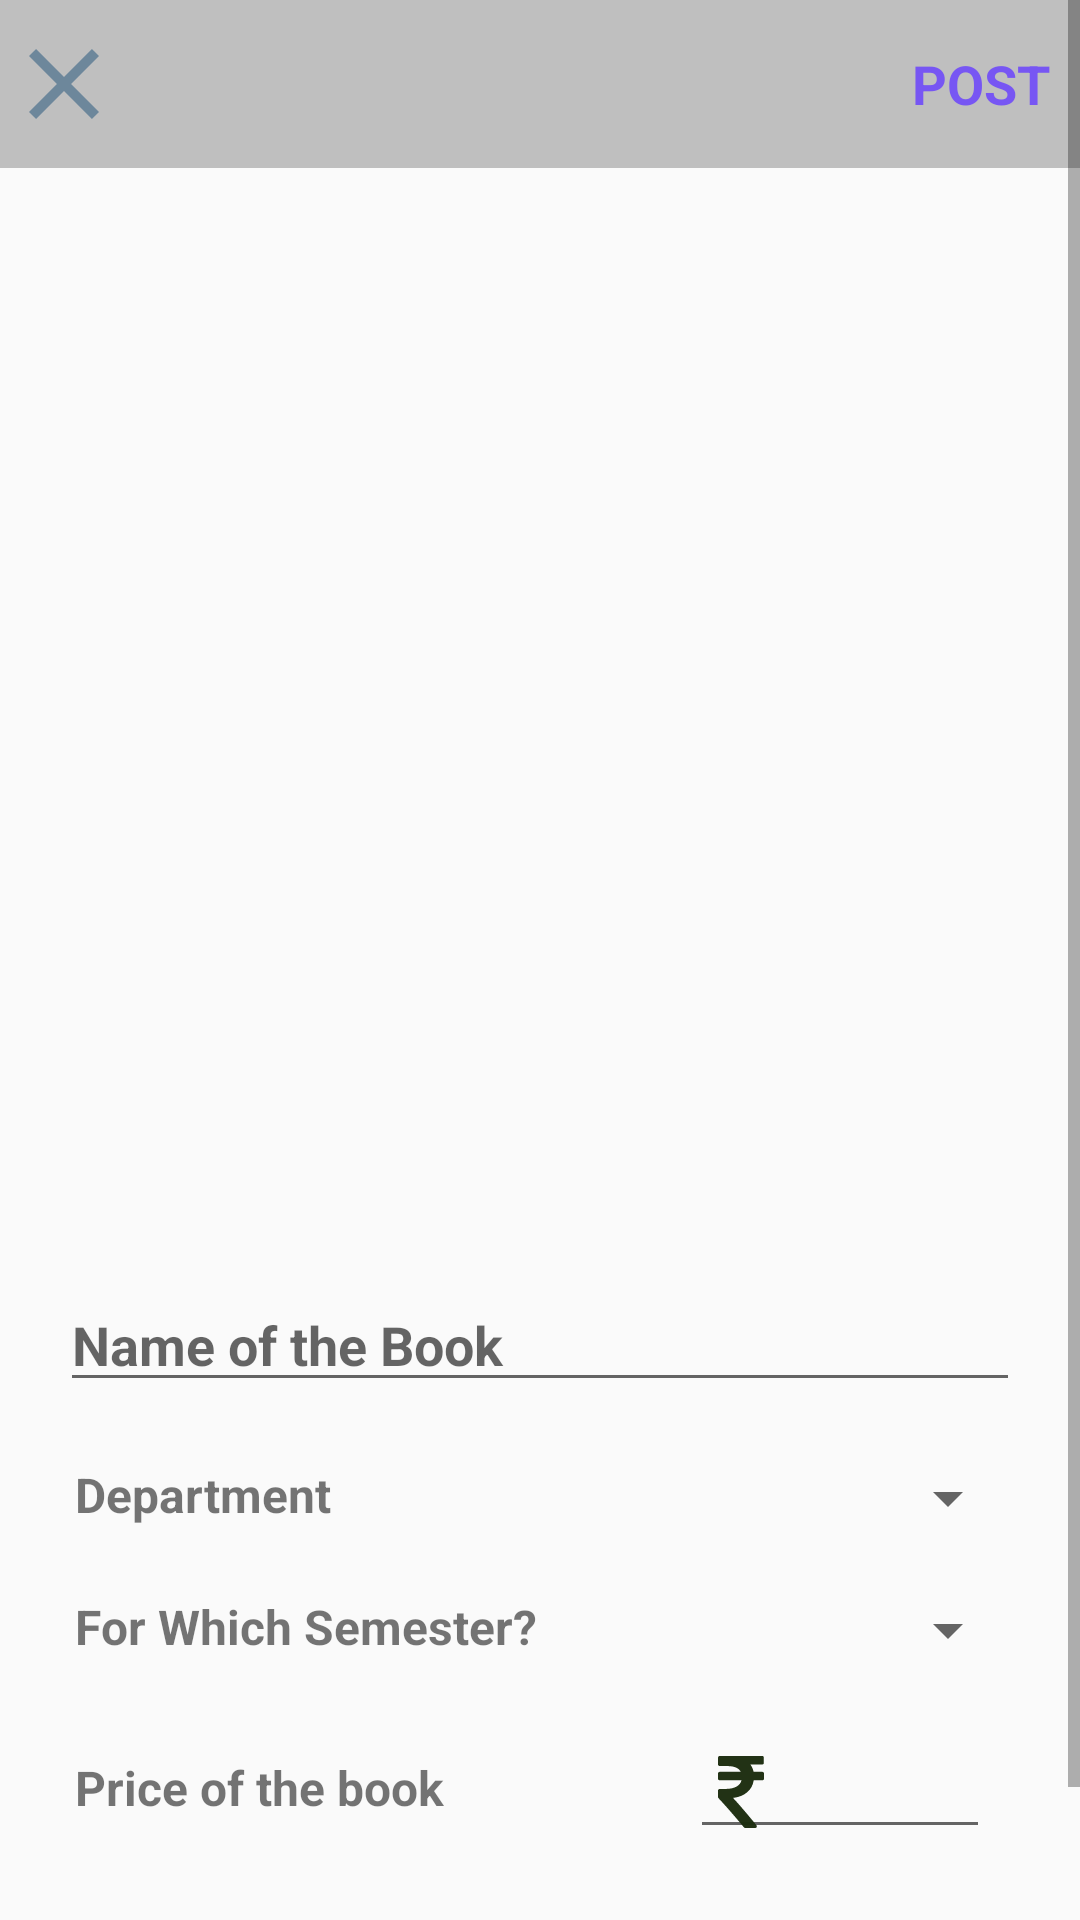

Icons on this 1080×1920 Android screen, each with its box as (x1, y1, x2, y2):
close: (29, 49, 99, 119)
